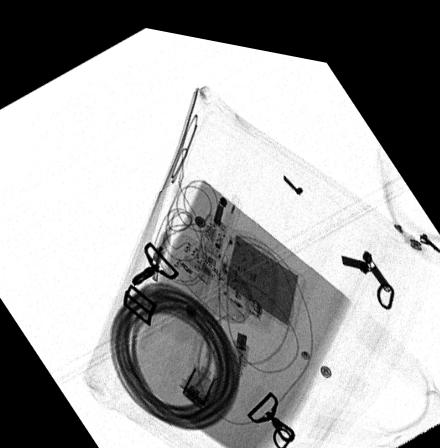Powerbank: (188, 199, 308, 319)
